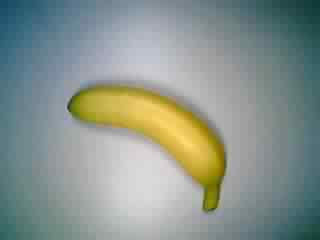banana: (61, 82, 230, 216)
